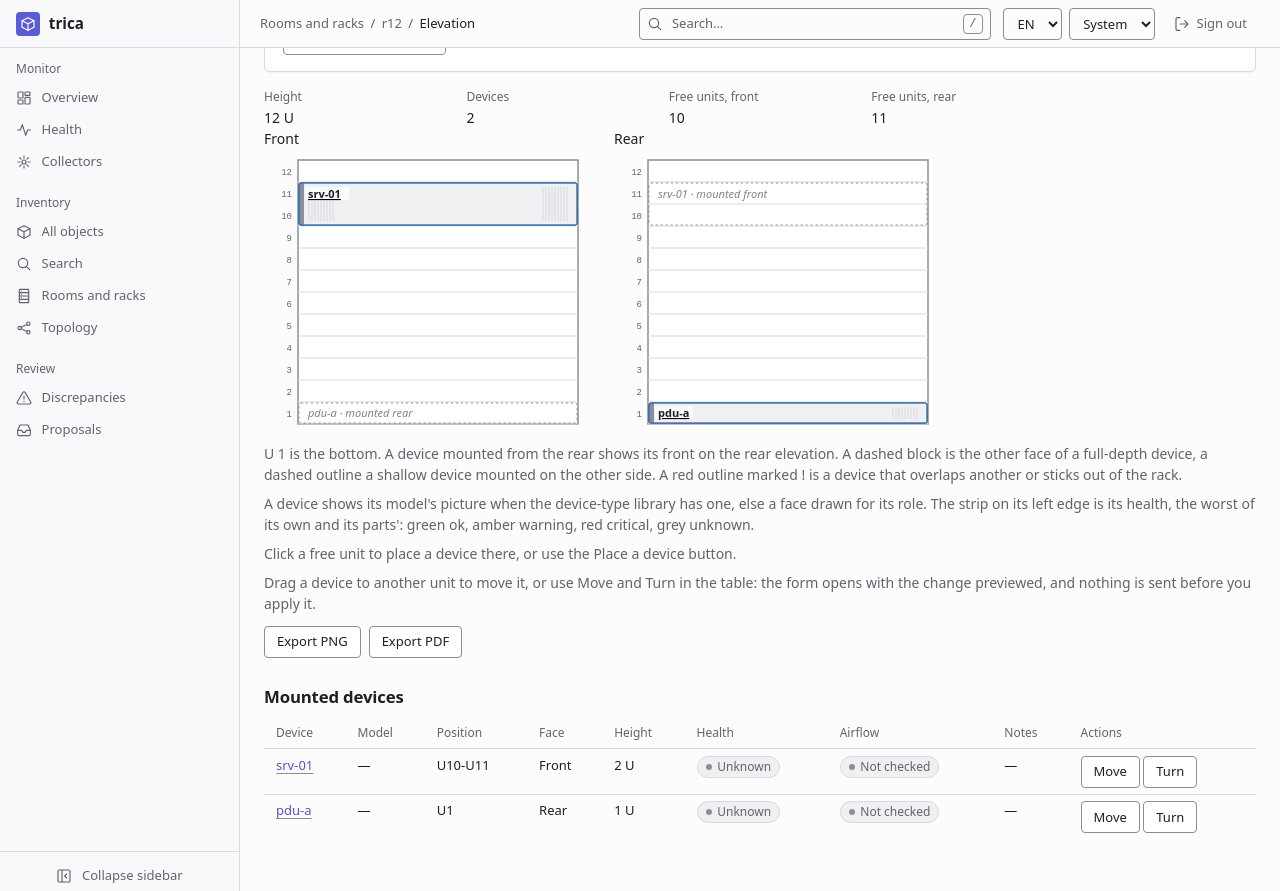
Scenario: placing a device from the rack page › turns a device from the table: a compact dialog opens on the other face and previews the change at once
The image size is (1280, 891).
(page scrolled)
Click the button "Turn" in the row of "1 U". click: point(1170, 817)
box: [1143,801,1197,833]
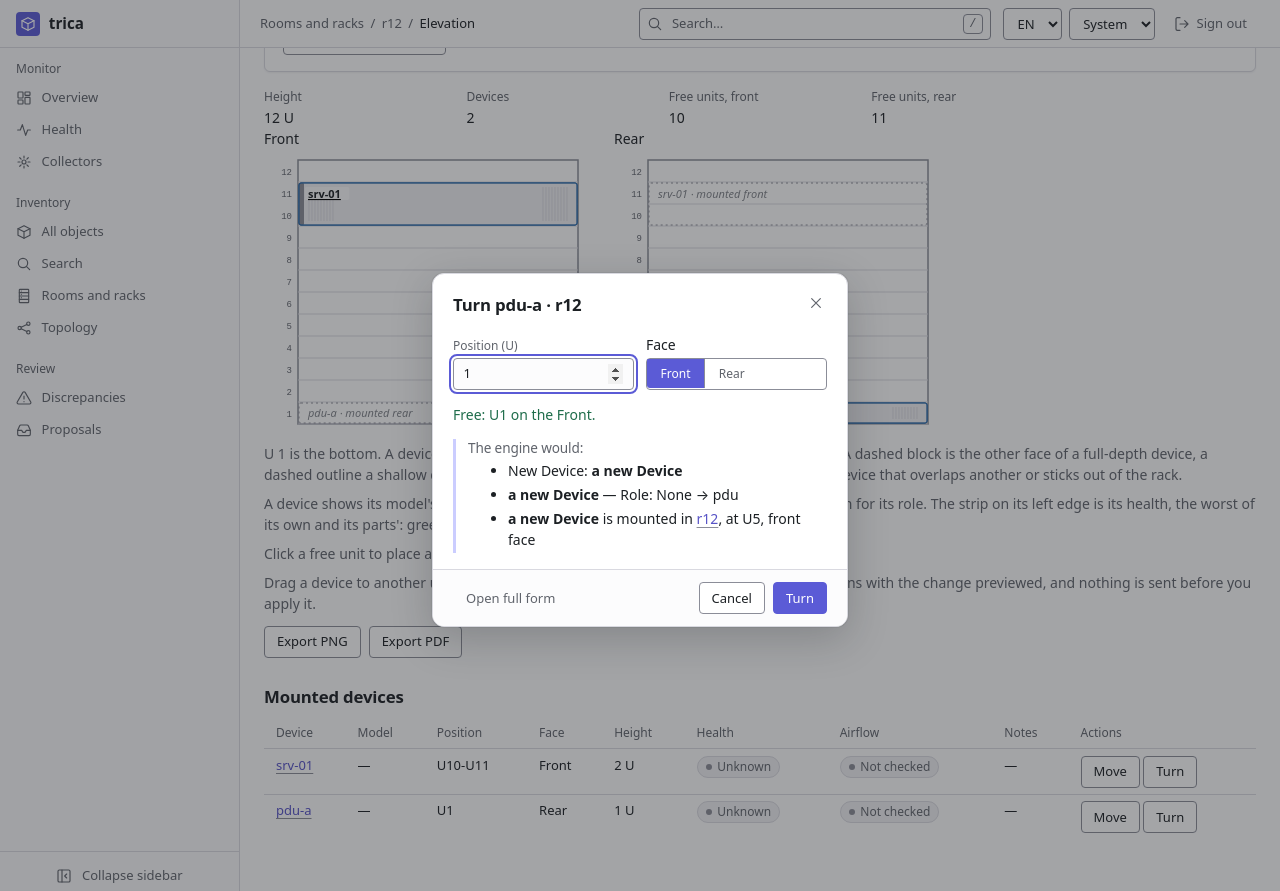
expect the heading "The engine would:" is shown: met, box [468,438,583,457]
Cancel sends nothing.
Click the button "Cancel". click: point(732, 598)
box: [698,582,765,614]
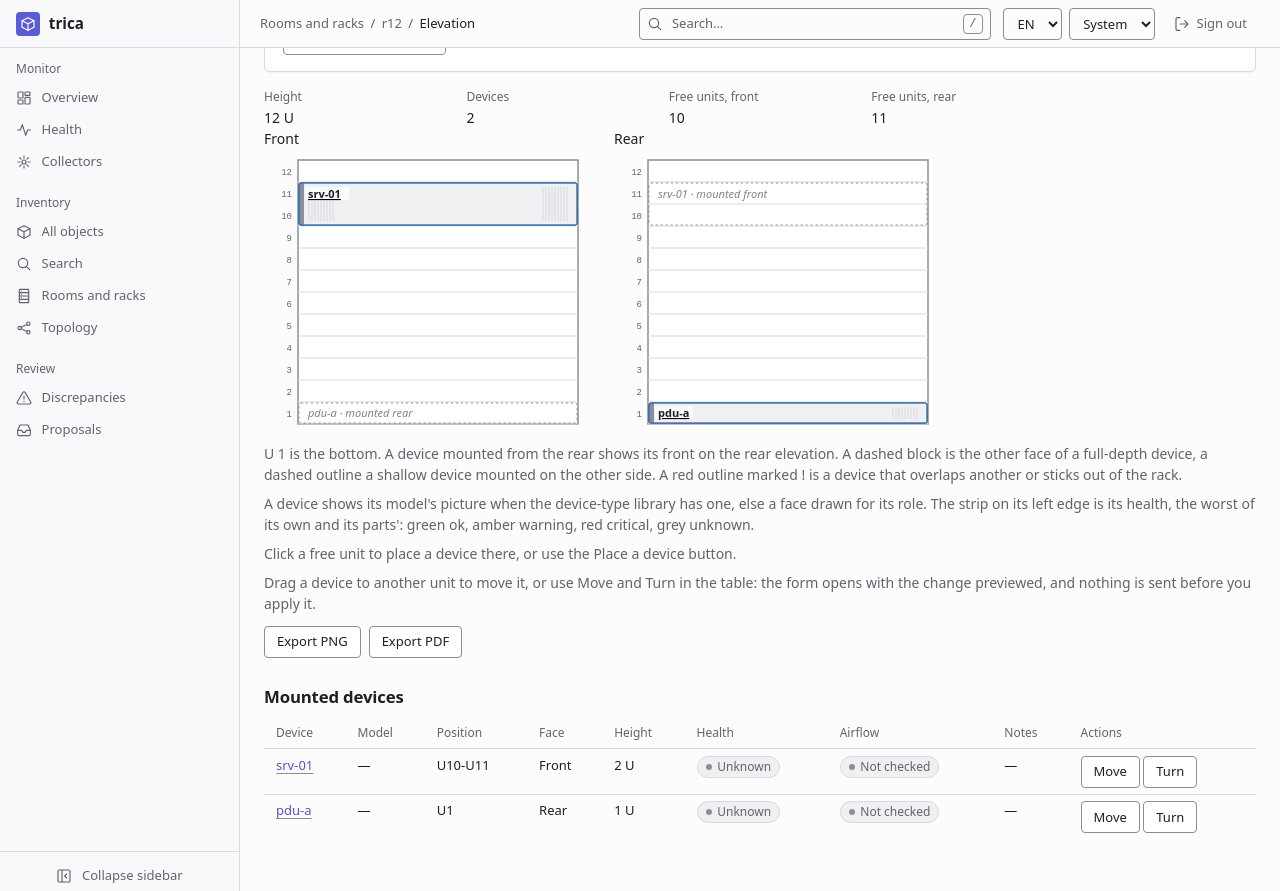
expect the dialog is gone: met
Confirm sends the batch that was previewed, and the page says what happened.
Click the button "Turn" in the row of "1 U". click: point(1170, 817)
box: [1143,801,1197,833]
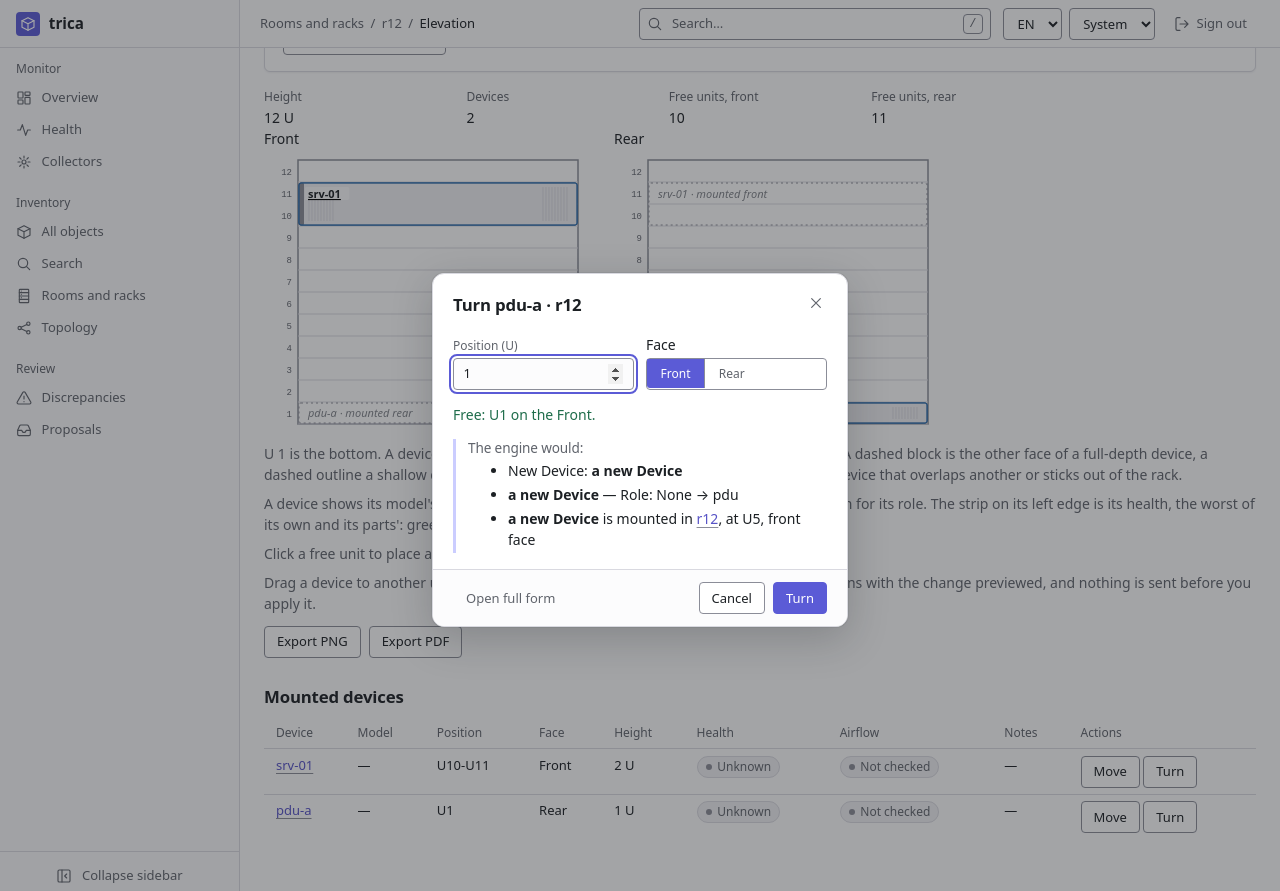
expect the button "Turn" is enabled: met
Click the button "Turn". click: point(800, 598)
box: [773,582,827,614]
(page scrolled)
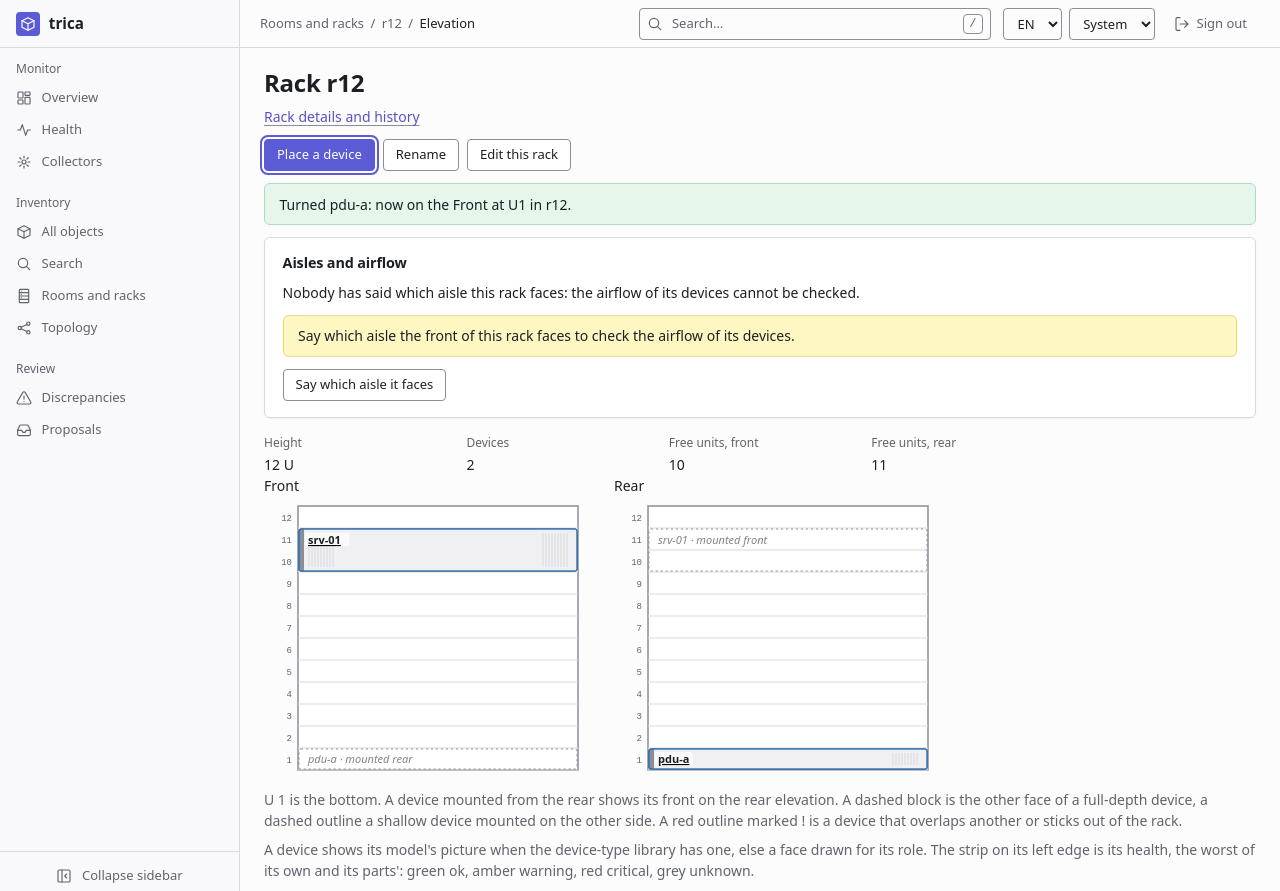
expect the text "Turned pdu-a: now on the Front at U1 in r12." is shown: met, box [264,183,1256,225]
expect the dialog is gone: met
